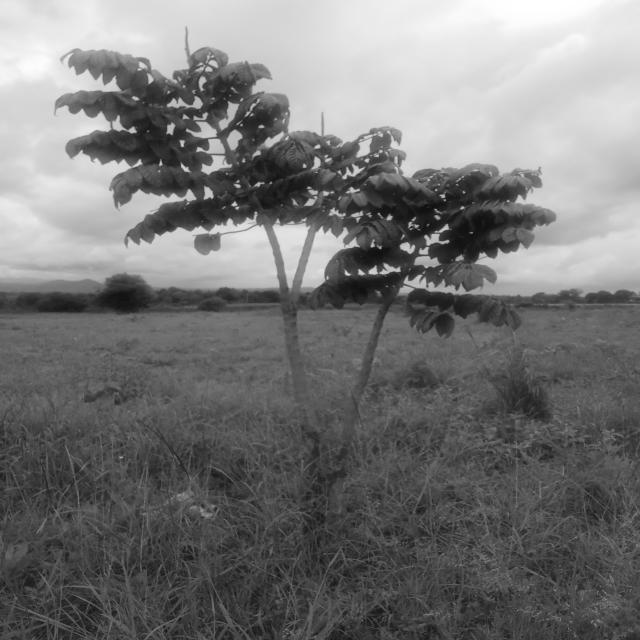Polyscias Kikuyensis: (52, 26, 573, 531)
